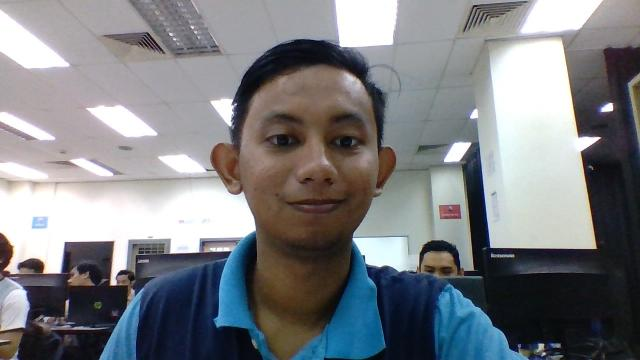senang: (219, 43, 392, 255)
